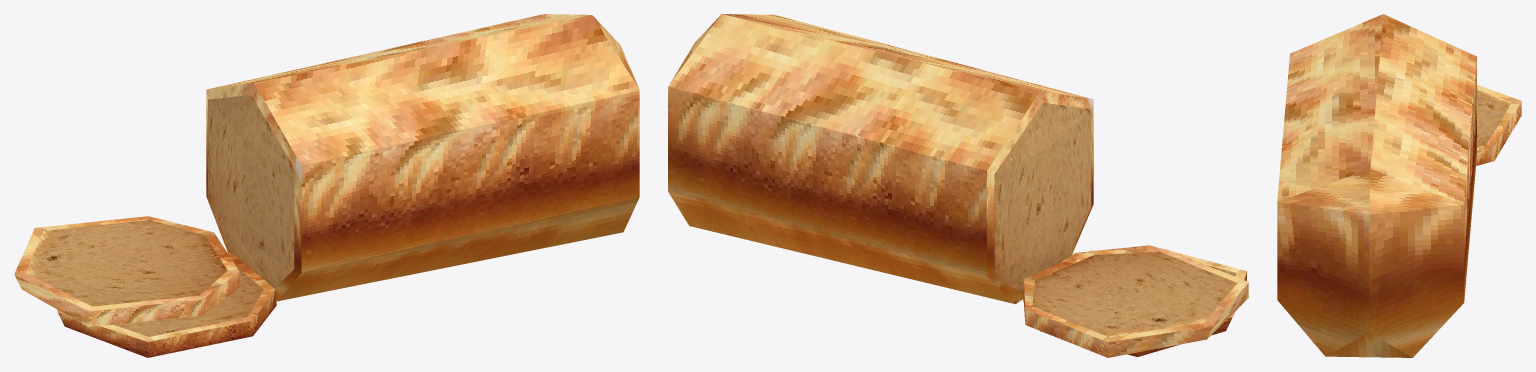
Rendered from bread.gltf.
3 renders of one model, left to right at view 1: azimuth 30°, elevation 25°; view 2: azimuth 150°, elevation 25°; view 3: azimuth 270°, elevation 25°, orthographic. The views are drawn at different scales.
Visible parts, largest first — view 1: Object_6; view 2: Object_6; view 3: Object_6.
Boxes of the visible parts, <box> form: Object_6: <box>14,14,639,357</box>; Object_6: <box>668,14,1248,357</box>; Object_6: <box>1277,14,1521,357</box>.
Size of the model in its own units: 7.54 by 2.65 by 3.07.
Materials: 1 (1 with a texture image).
